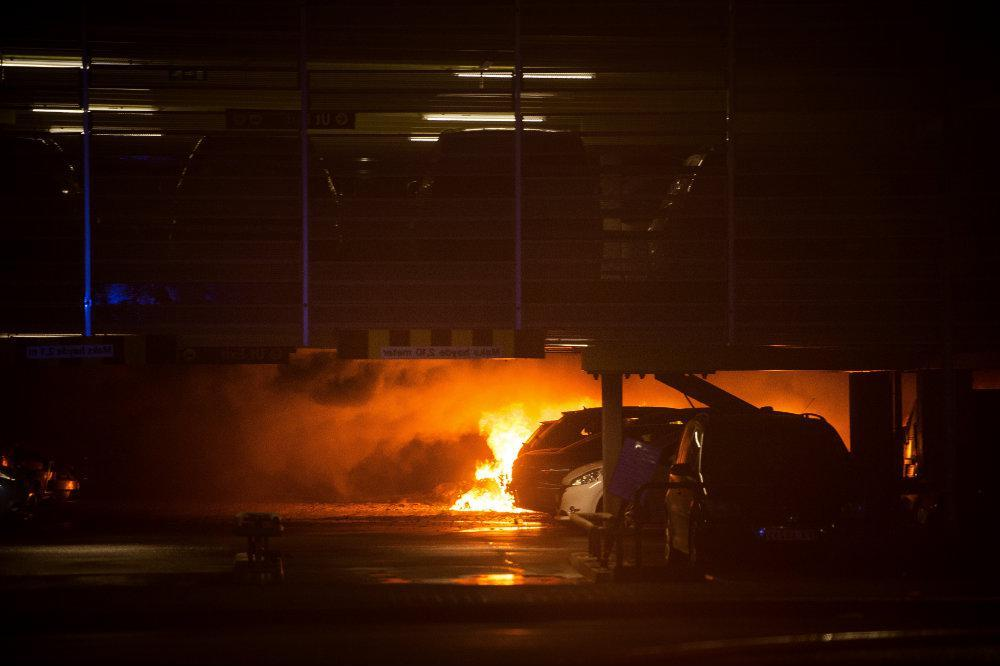Fire: (63, 478, 77, 496)
